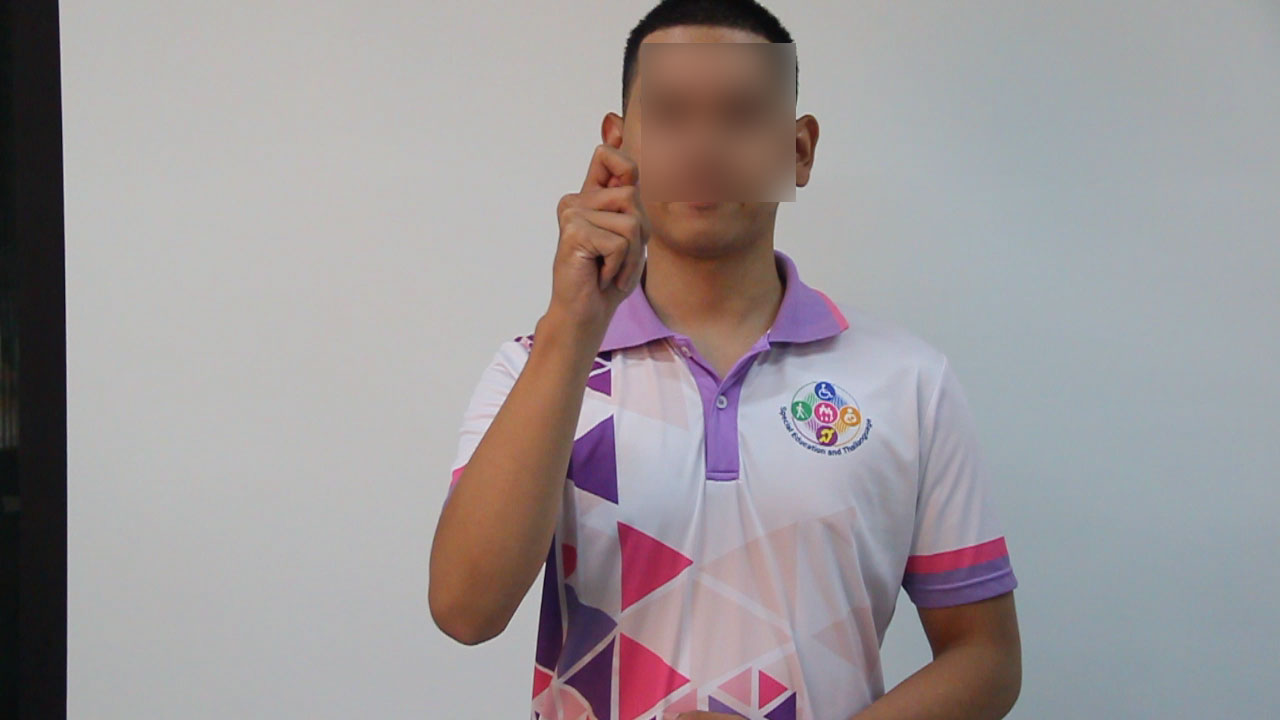or: (532, 138, 658, 358)
